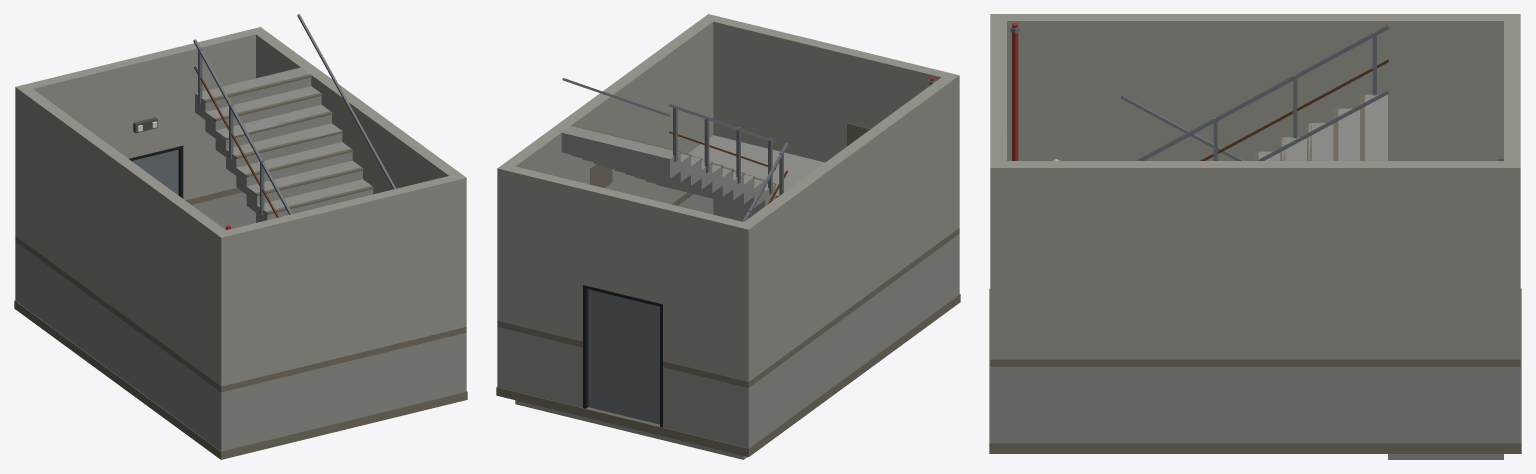
Rendered from tw_stair_flight_z.glb.
3 renders of one model, left to right at view 1: azimuth 30°, elevation 25°; view 2: azimuth 150°, elevation 25°; view 3: azimuth 270°, elevation 25°, orthographic. The views are drawn at different scales.
Parts seen in each view (by area): view 1: tw_stair_flight_z; view 2: tw_stair_flight_z; view 3: tw_stair_flight_z.
Boxes of the visible parts, box(x1,y1,x2,y2) form: tw_stair_flight_z: box(14, 14, 467, 459); tw_stair_flight_z: box(496, 14, 960, 459); tw_stair_flight_z: box(989, 14, 1521, 459).
Size of what is drawn, in the model's own units: 4.42 by 4.9 by 6.42.
2 materials, 2 textured.
